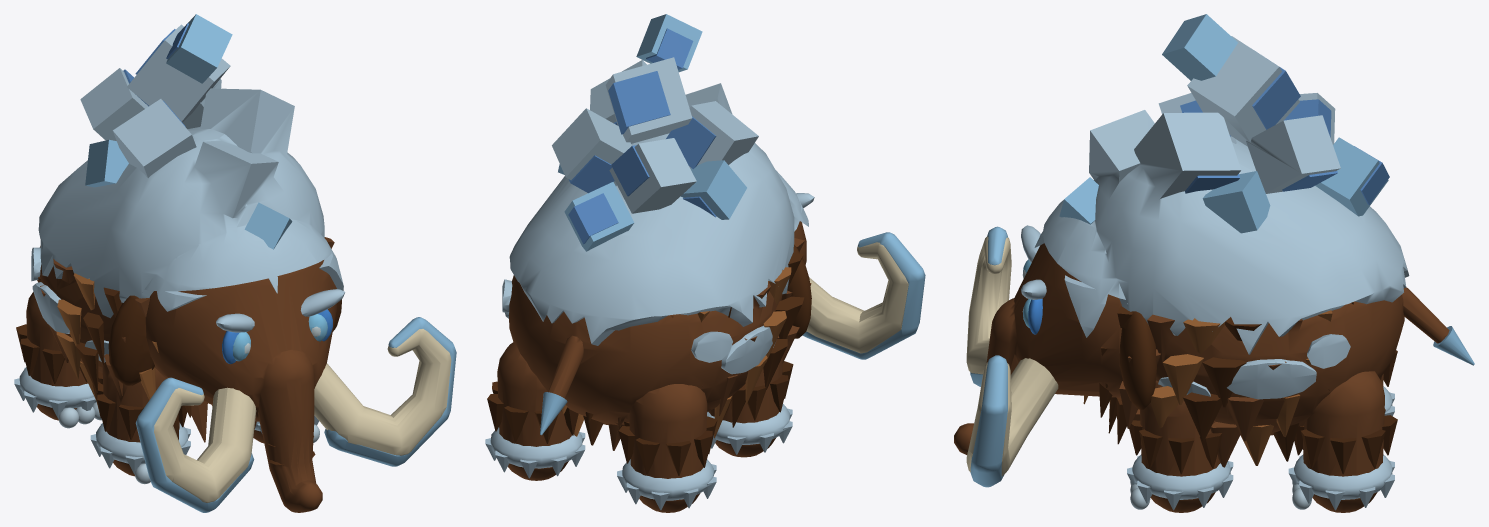
File: rimetusk.glb
3 renders of one model, left to right at view 1: azimuth 30°, elevation 25°; view 2: azimuth 150°, elevation 25°; view 3: azimuth 270°, elevation 25°, orthographic. The views are drawn at different scales.
Visible parts, largest first — view 1: creature; view 2: creature; view 3: creature.
Boxes of the visible parts, x1,y1,x2,y2 form: creature: (14,14,456,512); creature: (485,14,925,512); creature: (954,14,1474,512).
Bounding box in the file's own units: 0.7652 × 1 × 1.02.
